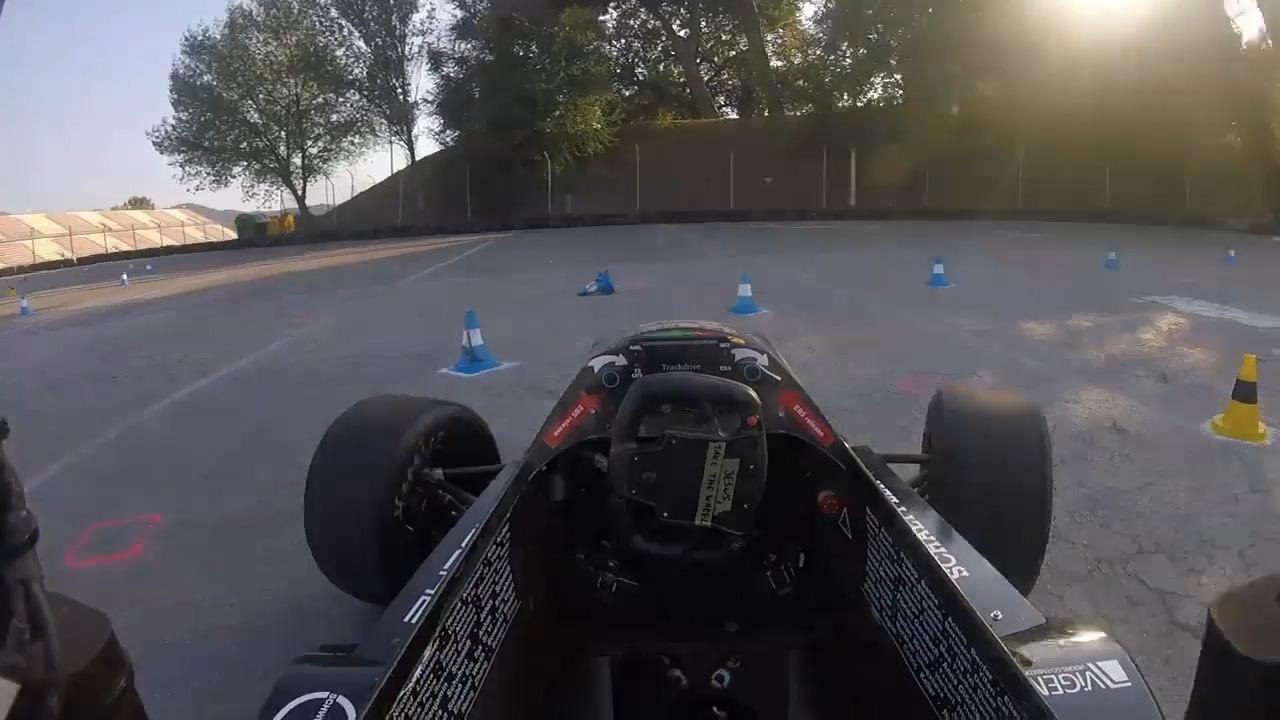blue_cone: (443, 310, 502, 375), (730, 271, 765, 319), (568, 269, 615, 297), (922, 253, 950, 289), (1102, 246, 1121, 274), (16, 293, 33, 318), (1222, 246, 1239, 265), (120, 272, 130, 286)
yellow_cone: (1210, 355, 1270, 442)
